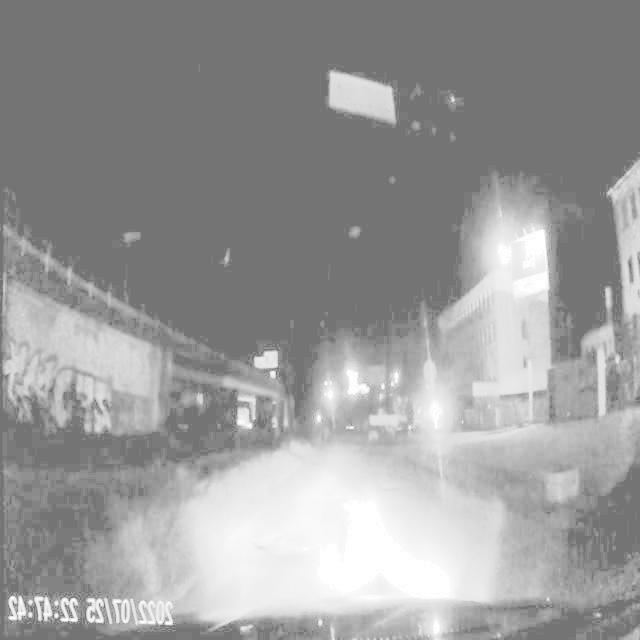Pothole: (250, 520, 309, 566), (373, 471, 406, 500)
